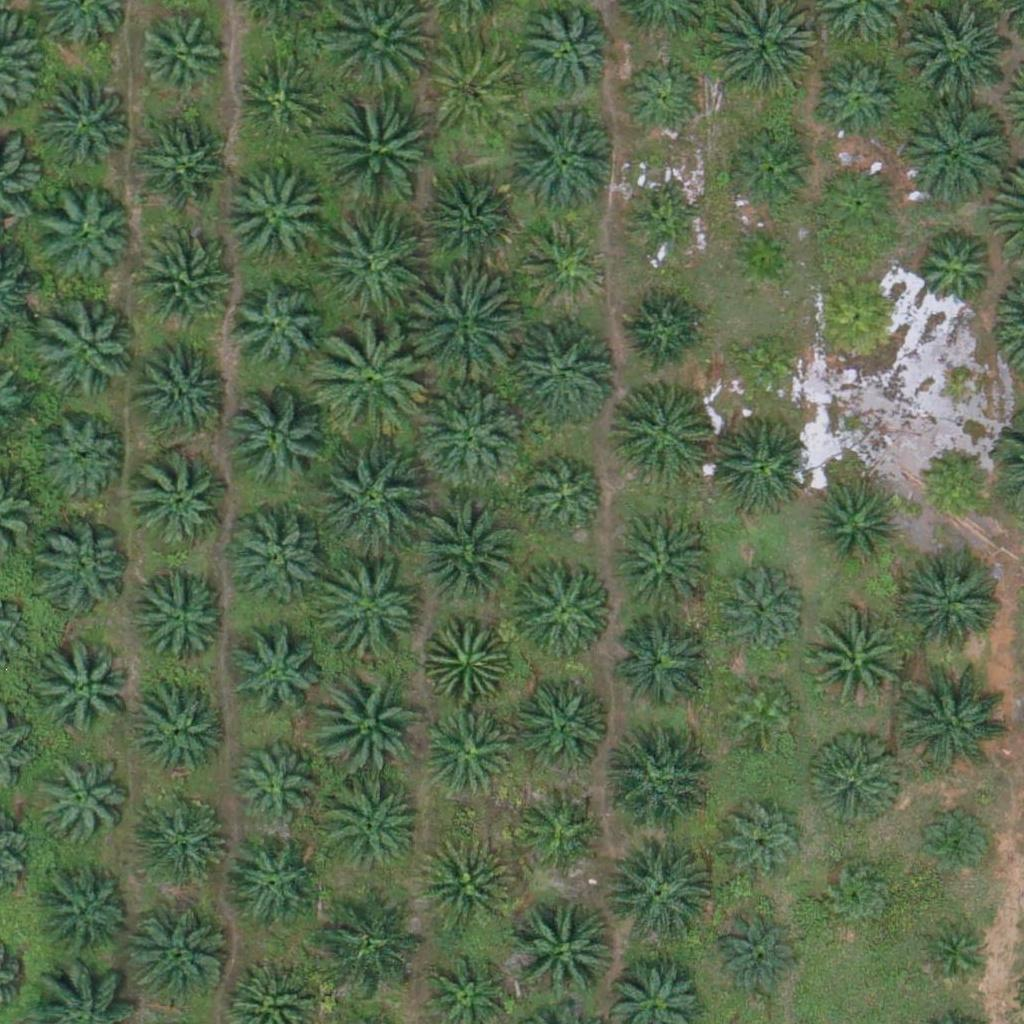Kelapa_Sawit: (312, 210, 425, 324), (317, 882, 430, 995), (317, 557, 430, 670), (316, 441, 429, 554), (417, 378, 529, 492), (512, 895, 624, 1009), (323, 85, 435, 199), (316, 771, 428, 884), (311, 661, 423, 774), (314, 324, 426, 437), (404, 272, 516, 385), (409, 493, 521, 606), (507, 313, 619, 426), (598, 724, 710, 837), (599, 838, 711, 951), (900, 664, 1012, 777), (506, 103, 618, 216), (902, 2, 1014, 115), (897, 95, 1009, 208), (33, 183, 133, 284), (39, 637, 139, 738), (32, 752, 132, 853), (36, 861, 136, 962), (130, 904, 230, 1005), (129, 680, 229, 781), (131, 451, 231, 552), (132, 227, 232, 328), (229, 278, 329, 379), (227, 388, 327, 489), (222, 624, 322, 725), (225, 836, 325, 937), (415, 835, 515, 936), (514, 679, 614, 780), (513, 555, 613, 656), (615, 519, 715, 620), (613, 610, 713, 711), (706, 417, 806, 518), (805, 610, 905, 711), (902, 549, 1002, 650), (515, 2, 615, 103), (134, 115, 234, 216), (31, 74, 131, 175), (38, 302, 138, 402), (29, 519, 129, 619), (137, 791, 237, 891), (132, 567, 232, 667), (139, 338, 239, 438), (223, 169, 323, 269), (226, 506, 326, 606), (419, 173, 519, 273), (612, 381, 712, 481), (806, 729, 906, 829), (424, 39, 524, 139), (813, 271, 901, 360), (813, 158, 901, 246), (426, 705, 514, 793), (520, 780, 608, 868), (713, 913, 801, 1001), (720, 795, 808, 883), (618, 56, 706, 144), (234, 54, 322, 142), (136, 16, 224, 104), (815, 54, 902, 143), (521, 221, 608, 309), (38, 413, 125, 501), (232, 738, 319, 826), (424, 613, 511, 701), (525, 455, 612, 543), (620, 285, 707, 373), (718, 562, 805, 650), (812, 482, 899, 570), (909, 226, 996, 314), (724, 128, 811, 216), (916, 443, 991, 519), (919, 805, 994, 881), (917, 917, 992, 993), (724, 220, 799, 296), (728, 328, 803, 404), (630, 191, 705, 266), (725, 676, 800, 751), (823, 860, 898, 935)
